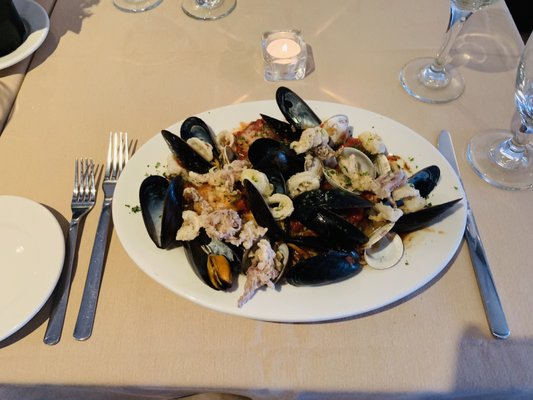burger: (437, 128, 510, 339), (75, 130, 128, 341), (48, 155, 102, 344)
pizza: (261, 29, 317, 83), (112, 0, 165, 14)
sushi: (0, 0, 51, 76)
